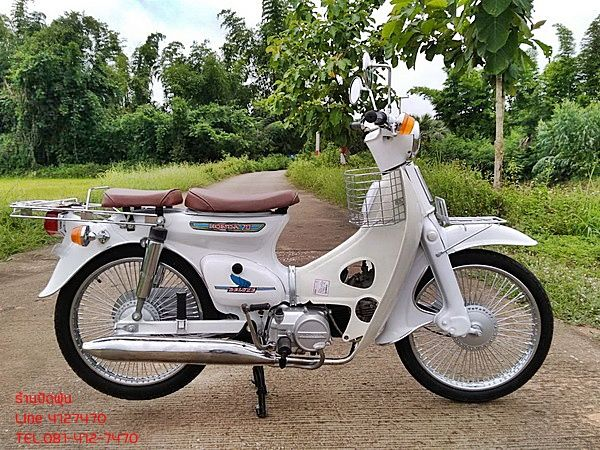motorcycle: (8, 108, 555, 397)
